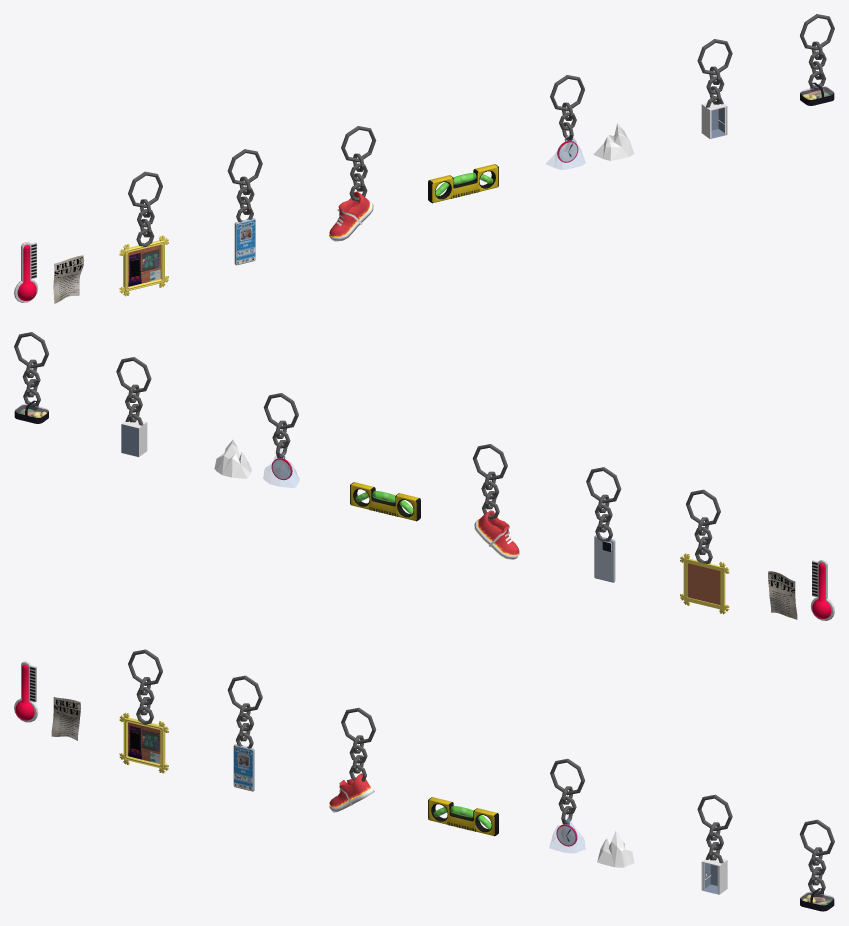
File: Trinkets.glb
3 views of the same model, one above another, from view 1: azimuth 30°, elevation 25°; view 2: azimuth 150°, elevation 25°; view 3: azimuth 330°, elevation 25° (orthographic).
Visible parts, largest first — view 1: GoldenFrame, Level, Shoe, Plane, Thermometer, Chain_0.002, Chain_0.005, Chain_0, Puudo, Chain_0.001, Chain_0.004, Cube (+4 smaller); view 2: GoldenFrame, Level, Shoe, Plane, Thermometer, Chain_0.001, Chain_0.002, Chain_0.005, Chain_0, Puudo, Ice.001, Chain_0.004 (+4 smaller); view 3: GoldenFrame, Level, Plane, Thermometer, Chain_0.002, Chain_0.005, Puudo, Chain_0, Chain_0.001, Shoe, Chain_0.004, Cube (+4 smaller).
Part boxes in pixels (x1,y1,x2,y2): GoldenFrame: [119, 235, 168, 296]; Level: [428, 164, 498, 203]; Shoe: [329, 191, 373, 241]; Plane: [53, 255, 84, 303]; Thermometer: [14, 242, 38, 302]; Chain_0.002: [128, 171, 162, 246]; Chain_0.005: [800, 14, 834, 89]; Chain_0: [341, 126, 376, 201]; Puudo: [234, 218, 255, 265]; Chain_0.001: [227, 149, 262, 222]; Chain_0.004: [697, 39, 732, 107]; Cube: [701, 100, 727, 139]; GoldenFrame: [680, 553, 729, 614]; Level: [350, 482, 420, 521]; Shoe: [474, 510, 519, 559]; Plane: [768, 571, 797, 619]; Thermometer: [810, 560, 834, 620]; Chain_0.001: [586, 467, 621, 541]; Chain_0.002: [686, 489, 720, 563]; Chain_0.005: [14, 332, 48, 407]; Chain_0: [472, 444, 507, 519]; Puudo: [594, 535, 615, 582]; Ice.001: [214, 440, 251, 478]; Chain_0.004: [116, 357, 151, 425]; GoldenFrame: [119, 712, 168, 773]; Level: [428, 797, 498, 836]; Plane: [51, 697, 80, 740]; Thermometer: [14, 661, 38, 722]; Chain_0.002: [128, 649, 162, 724]; Chain_0.005: [799, 819, 834, 894]; Puudo: [233, 744, 254, 791]; Chain_0: [341, 707, 376, 781]; Chain_0.001: [227, 675, 262, 748]; Shoe: [329, 773, 374, 812]; Chain_0.004: [697, 794, 732, 863]; Cube: [701, 858, 727, 894].
Size of the model in its own units: 16.34 by 2.28 by 0.4747.
Materials: 26 (6 with a texture image).
